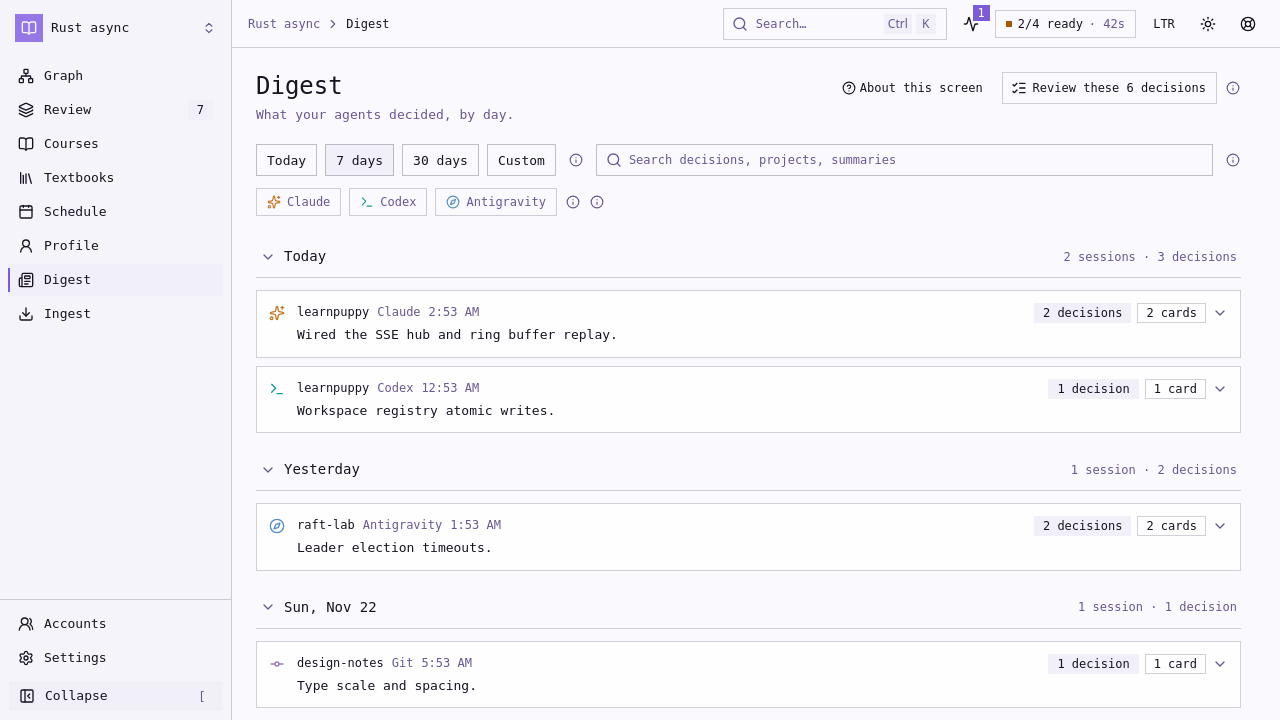
Test: digest info › guide lists the key parts
This screenshot has width=1280, height=720.
What coordinates should you click on to do the following:
click the button with test id "screen-guide-open"
I would click on:
 (914, 88)
Its box is [835, 74, 994, 102].
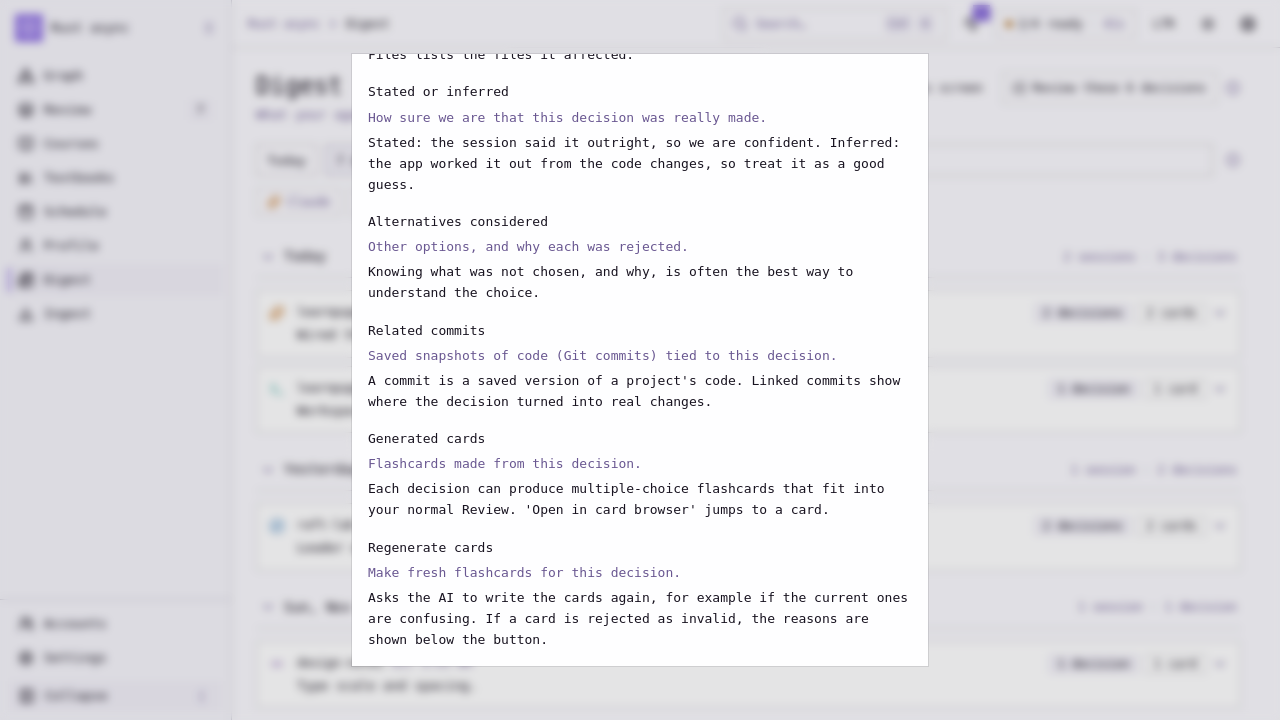
Result: the text "Stated or inferred" is shown at [368, 84, 509, 99]
Result: the text "Alternatives considered" is shown at [368, 214, 548, 229]
Result: the text "Regenerate cards" is shown at [368, 540, 493, 554]
